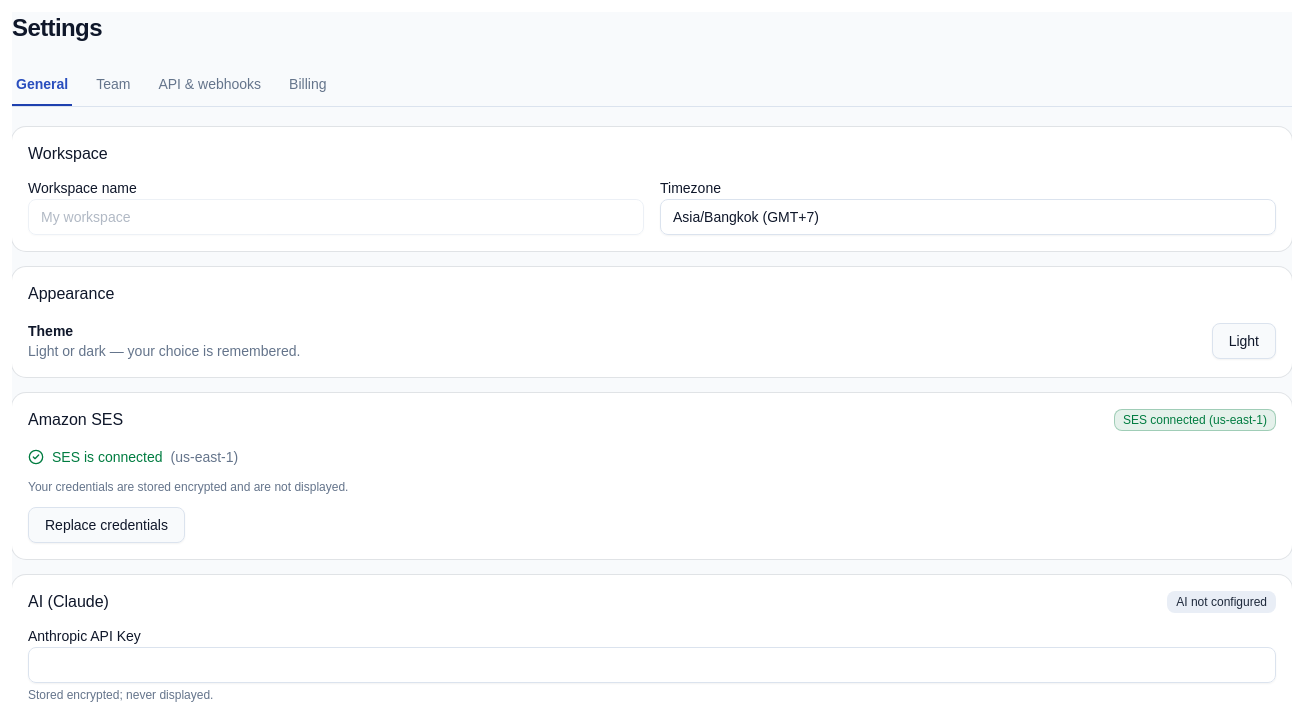
Test case: when sesConfigured=true: shows connected panel, hides form, shows Replace button that reveals form
Expected: the text "SES is connected" is shown, [52, 447, 162, 467]
Expected: the text "SES connected (us-east-1)" is shown, [1114, 409, 1276, 431]
Note: Clicking Replace reveals the form
Click the button "Replace credentials".
click(106, 525)  # box [28, 507, 185, 543]
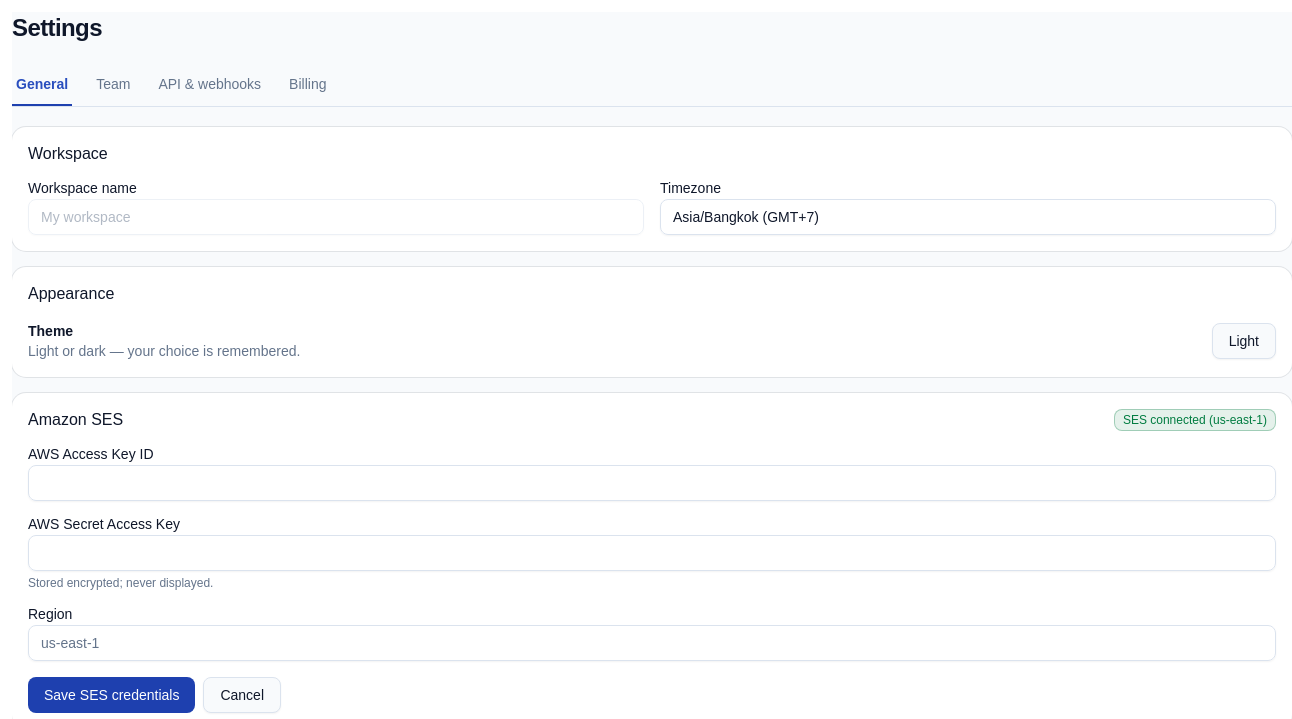
Expected: the password field labelled "AWS Secret Access Key" is shown, [28, 535, 1276, 571]
Expected: the field labelled "AWS Access Key ID" is shown, [28, 465, 1276, 501]
Note: Cancel button hides the form again
Click the button "Cancel".
click(242, 695)  # box [203, 677, 281, 713]
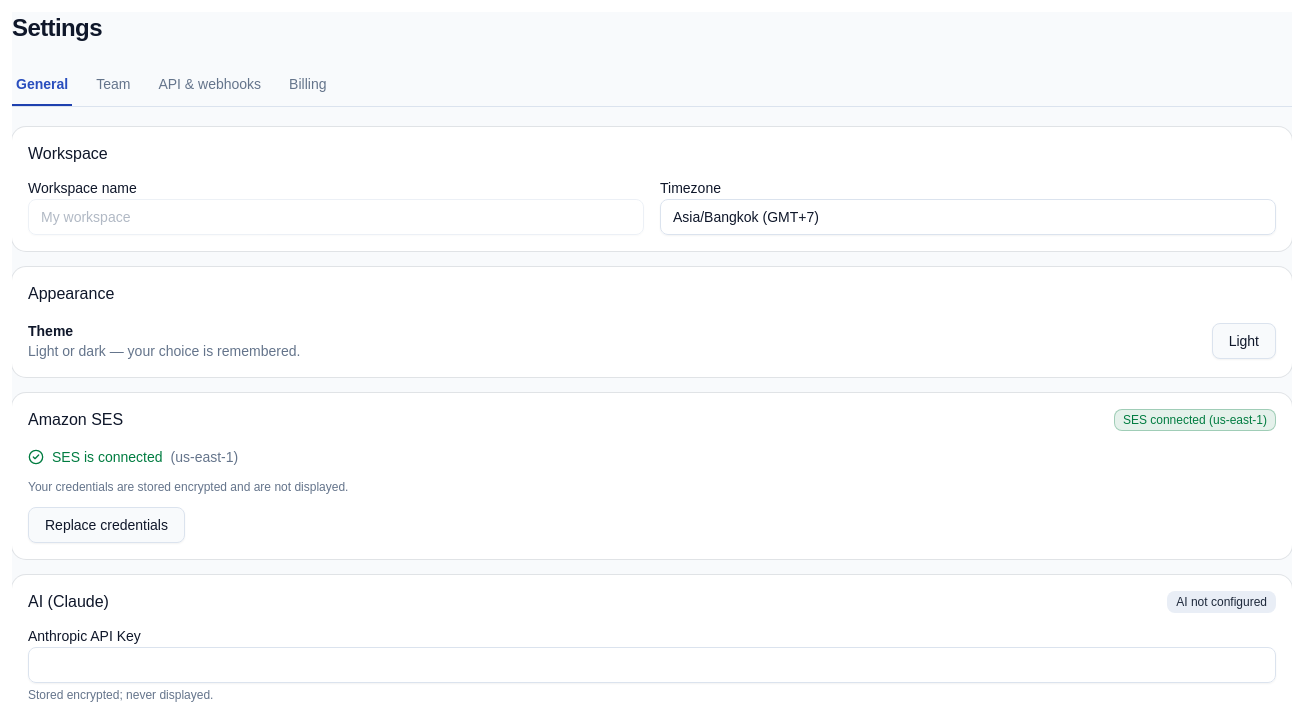
Expected: the label labelled "AWS Secret Access Key" is gone
